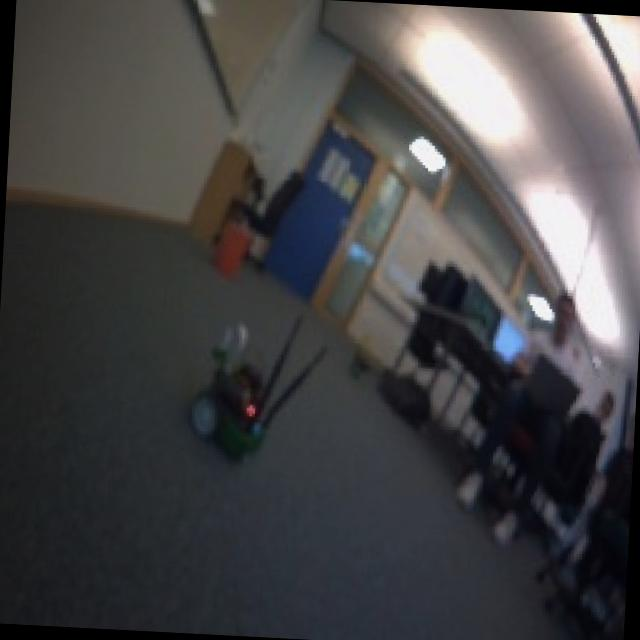robot: (184, 345, 286, 464), (346, 344, 376, 384)
